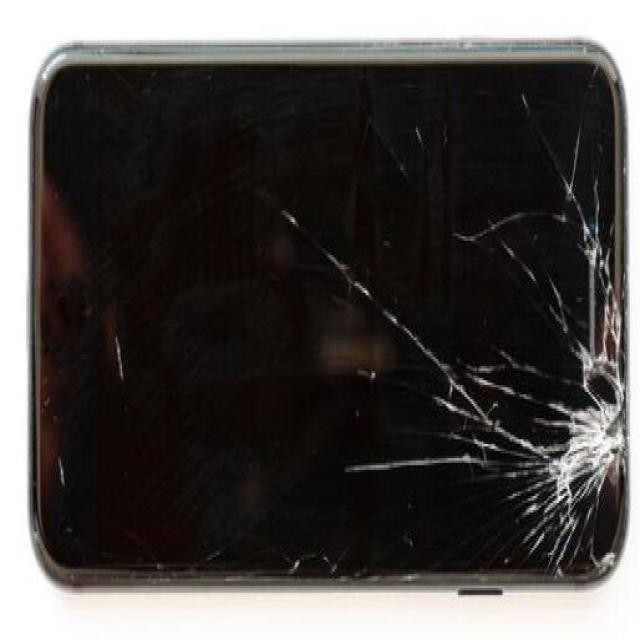electronic: (27, 38, 629, 590)
